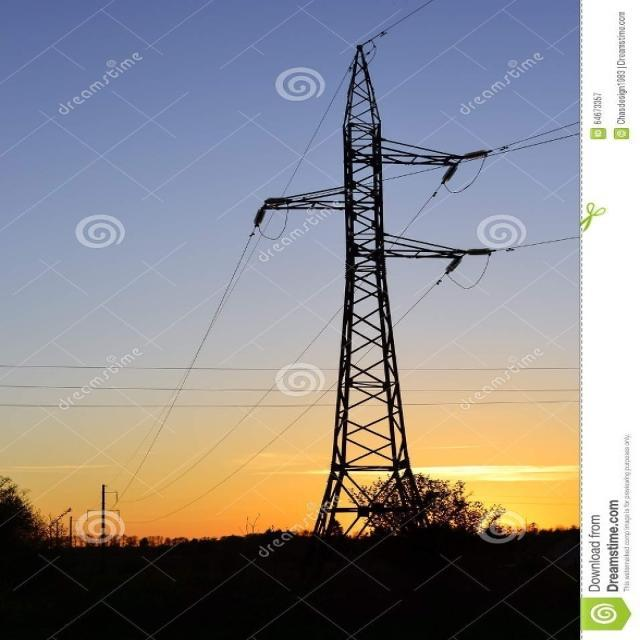non-critical vegetation: (236, 35, 477, 540)
